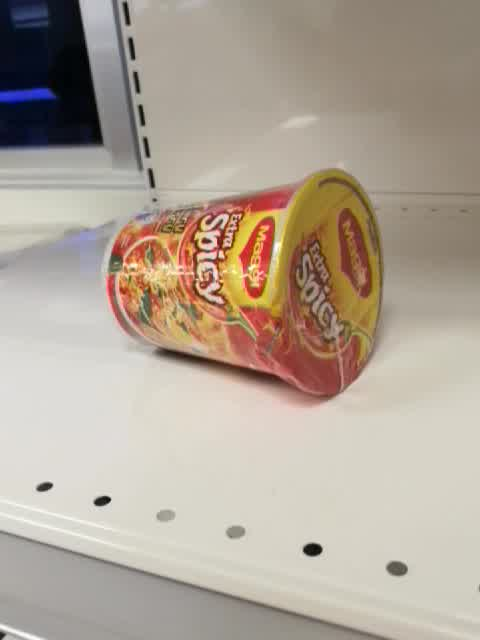maggi: (99, 165, 385, 401)
